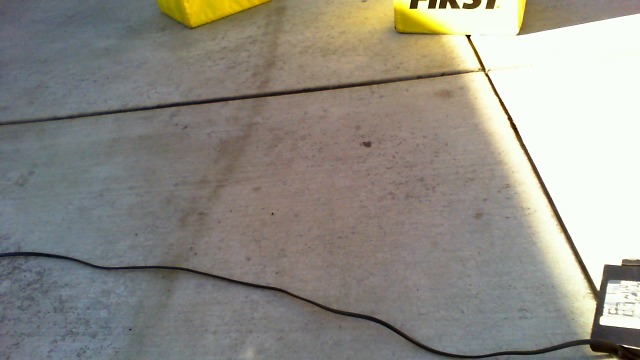cube: (390, 1, 525, 36), (149, 1, 281, 31)
